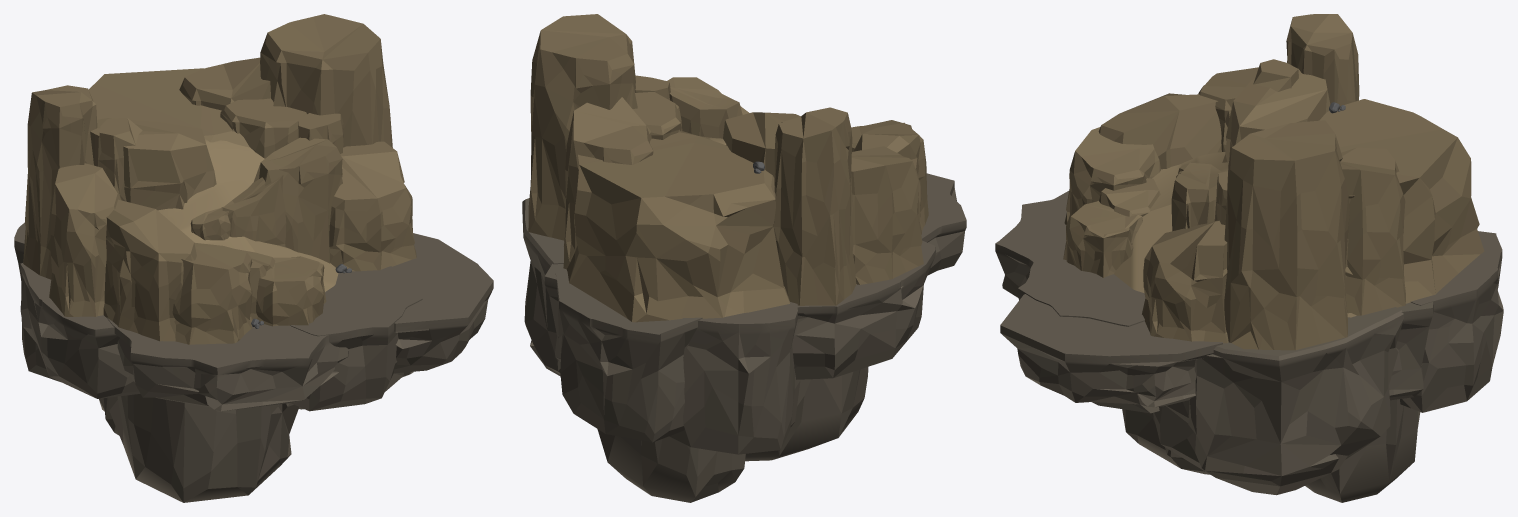
File: NEPlateauIsland.fbx
3 views of the same model, side by side, from view 1: azimuth 30°, elevation 25°; view 2: azimuth 150°, elevation 25°; view 3: azimuth 270°, elevation 25° (orthographic). The views are drawn at different scales.
Visible parts, largest first — view 1: NorthEastIslandCombined; view 2: NorthEastIslandCombined; view 3: NorthEastIslandCombined.
Boxes of the visible parts, left/top/right/bottom form: NorthEastIslandCombined: left=14, top=14, right=493, bottom=502; NorthEastIslandCombined: left=522, top=14, right=966, bottom=502; NorthEastIslandCombined: left=995, top=14, right=1503, bottom=502.
Bounding box in the file's own units: 37.75 × 37.39 × 43.1.
